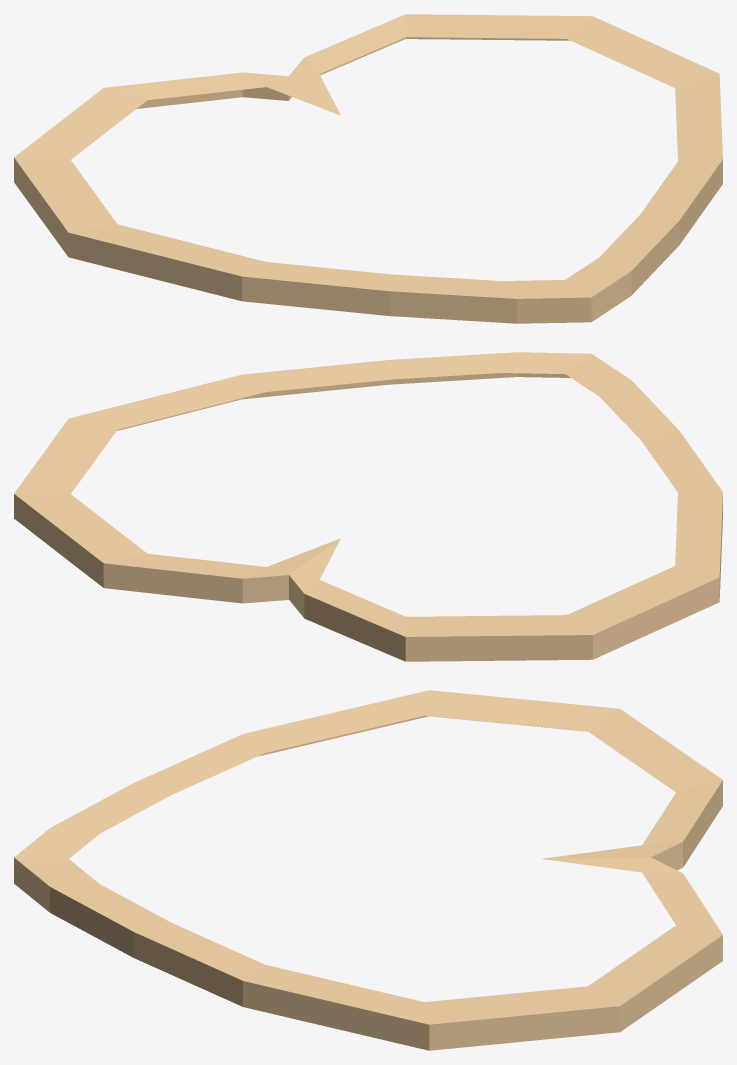
File: HeartBase.glb
3 renders of one model, top to bottom at view 1: azimuth 30°, elevation 25°; view 2: azimuth 150°, elevation 25°; view 3: azimuth 270°, elevation 25°, orthographic. The views are drawn at different scales.
Visible parts, largest first — view 1: Base; view 2: Base; view 3: Base.
Boxes of the visible parts, x1,y1,x2,y2 form: Base: [14, 14, 722, 323]; Base: [14, 352, 722, 661]; Base: [14, 690, 722, 1050].
Bounding box in the file's own units: 3.26 × 0.1185 × 2.92.
